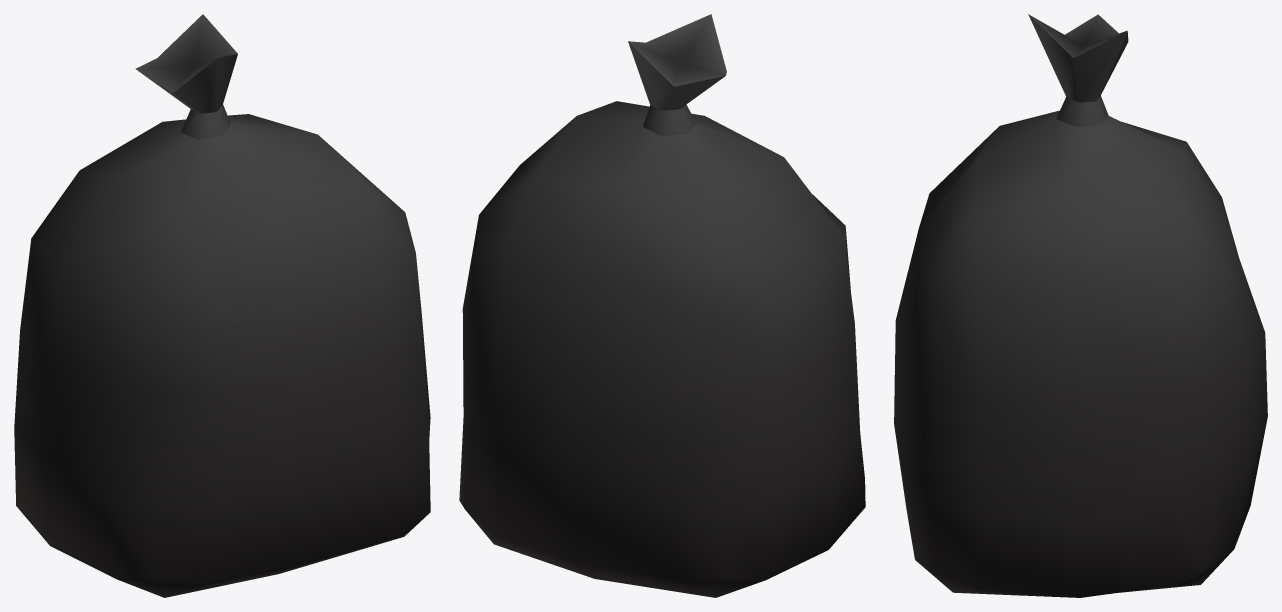
Rendered from Trash_bag_001.glb.
3 renders of one model, left to right at view 1: azimuth 30°, elevation 25°; view 2: azimuth 150°, elevation 25°; view 3: azimuth 270°, elevation 25°, orthographic. The views are drawn at different scales.
Parts seen in each view (by area): view 1: Trash_bag_001; view 2: Trash_bag_001; view 3: Trash_bag_001.
Boxes of the visible parts, <box> form: Trash_bag_001: <box>14,14,430,597</box>; Trash_bag_001: <box>459,14,865,597</box>; Trash_bag_001: <box>894,14,1267,597</box>.
Bounding box in the file's own units: 0.2941 × 0.3998 × 0.2651.
Materials: 1 (1 with a texture image).
